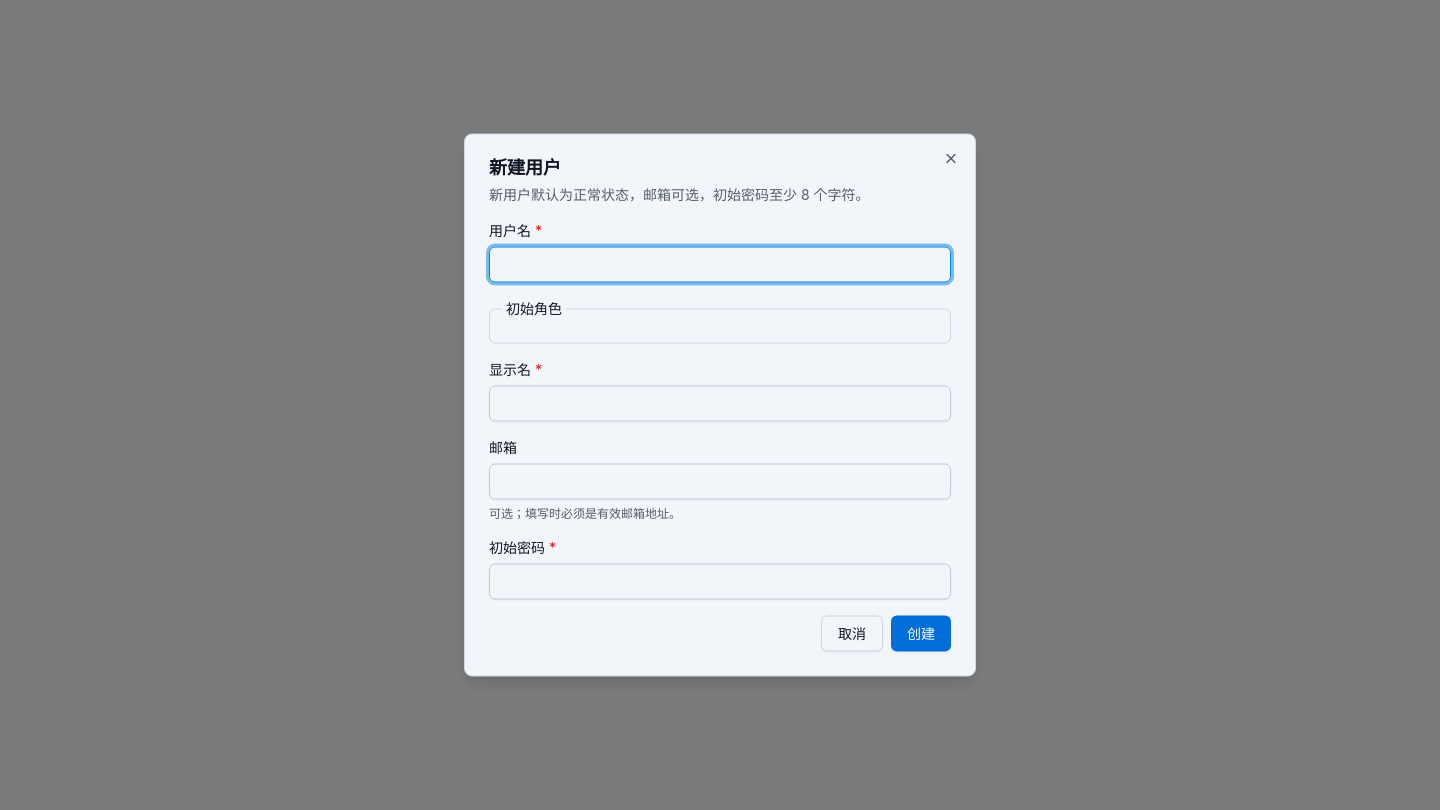
Scenario: PlatformUserCreateDialog › 邮箱有值但格式错误时在前端拦截
Step 1. Type "test-user" into the field labelled "用户名*" → (720, 264), box [489, 246, 951, 282]
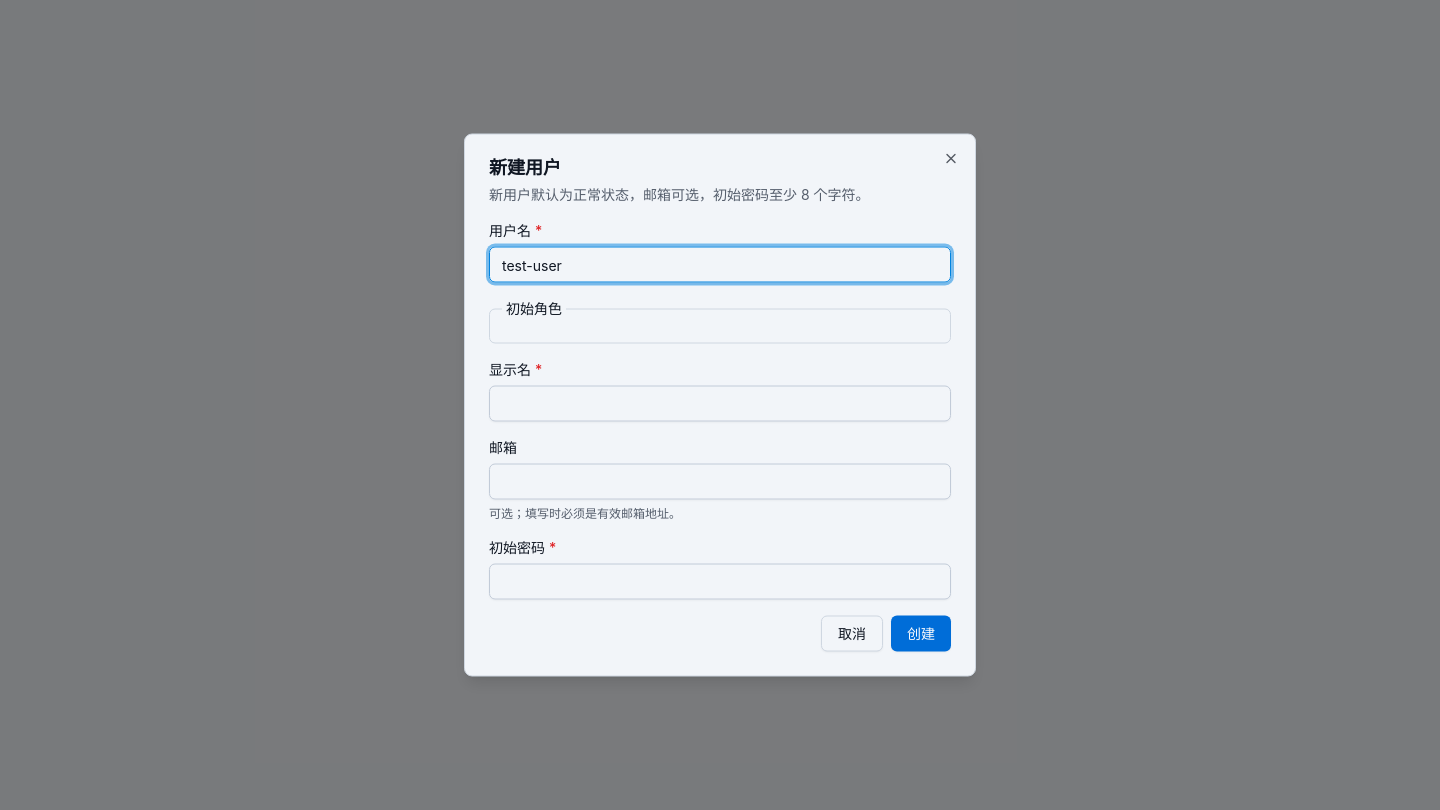
Step 2. Type "测试用户" into the field labelled "显示名*" → (720, 404), box [489, 386, 951, 422]
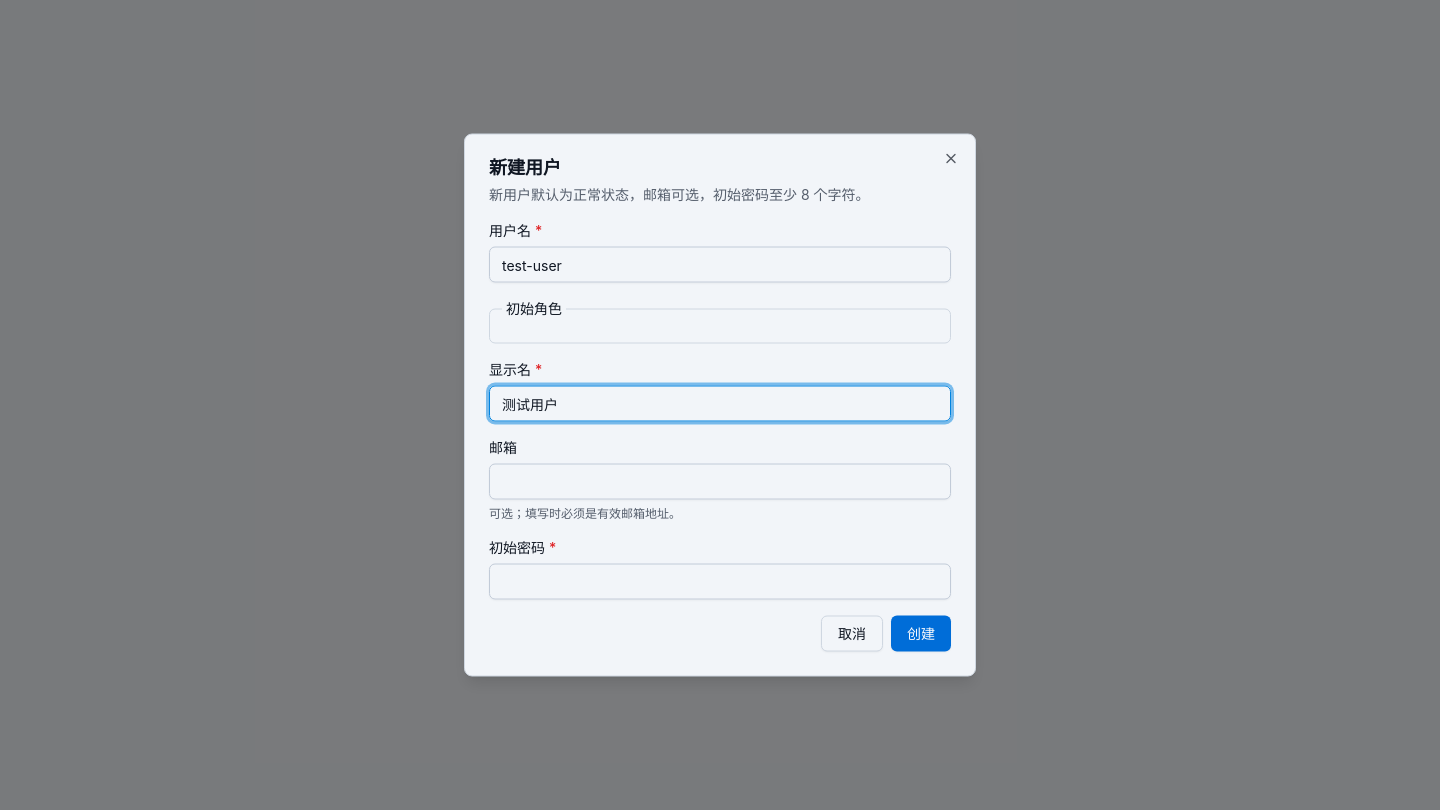
Step 3. Type "invalid-email" into the field labelled "邮箱" → (720, 482), box [489, 464, 951, 500]
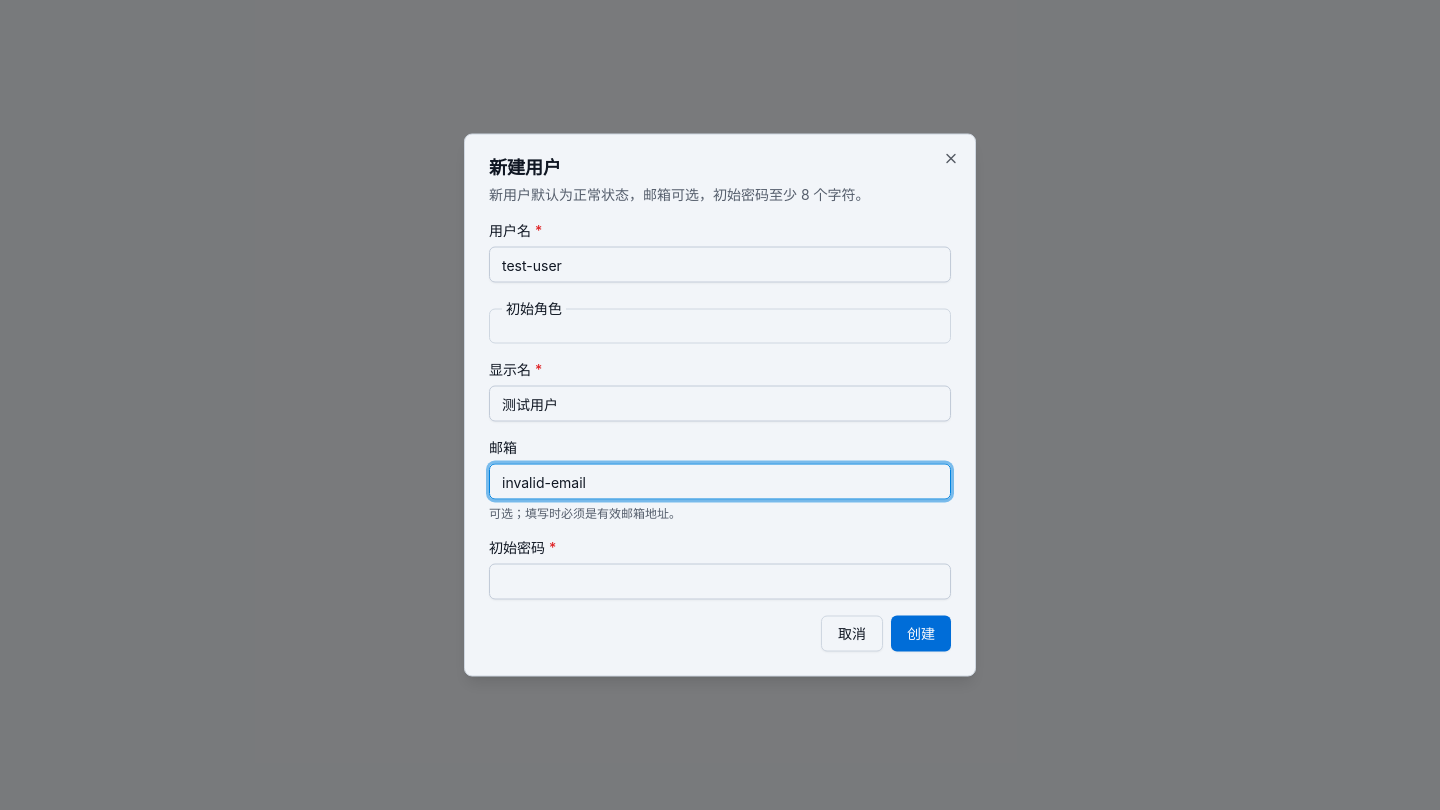
Step 4. Type "changeMe-9!" into the password field labelled "初始密码*" → (720, 582), box [489, 564, 951, 600]
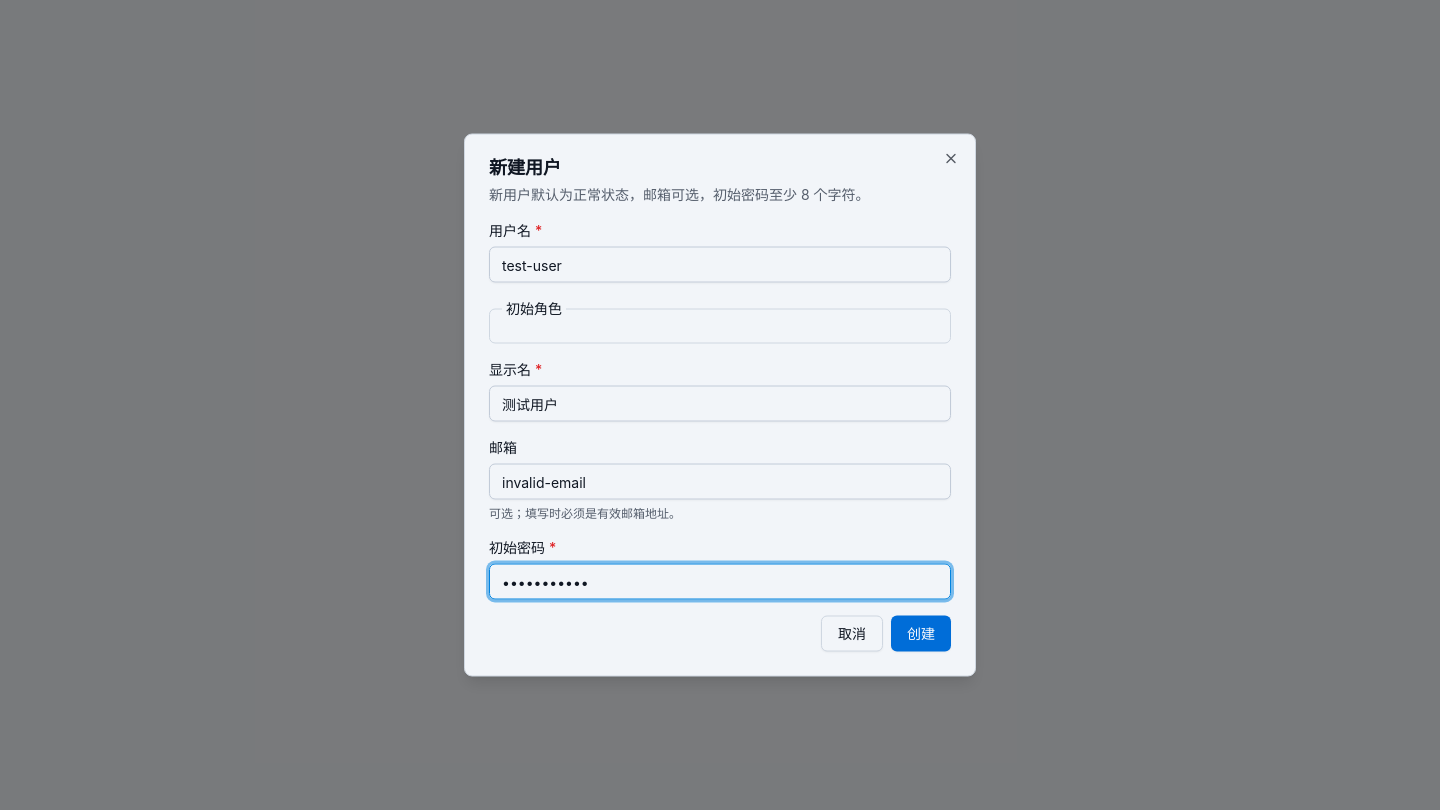
Step 5. Click the button "创建" → (921, 634), box [891, 616, 951, 652]
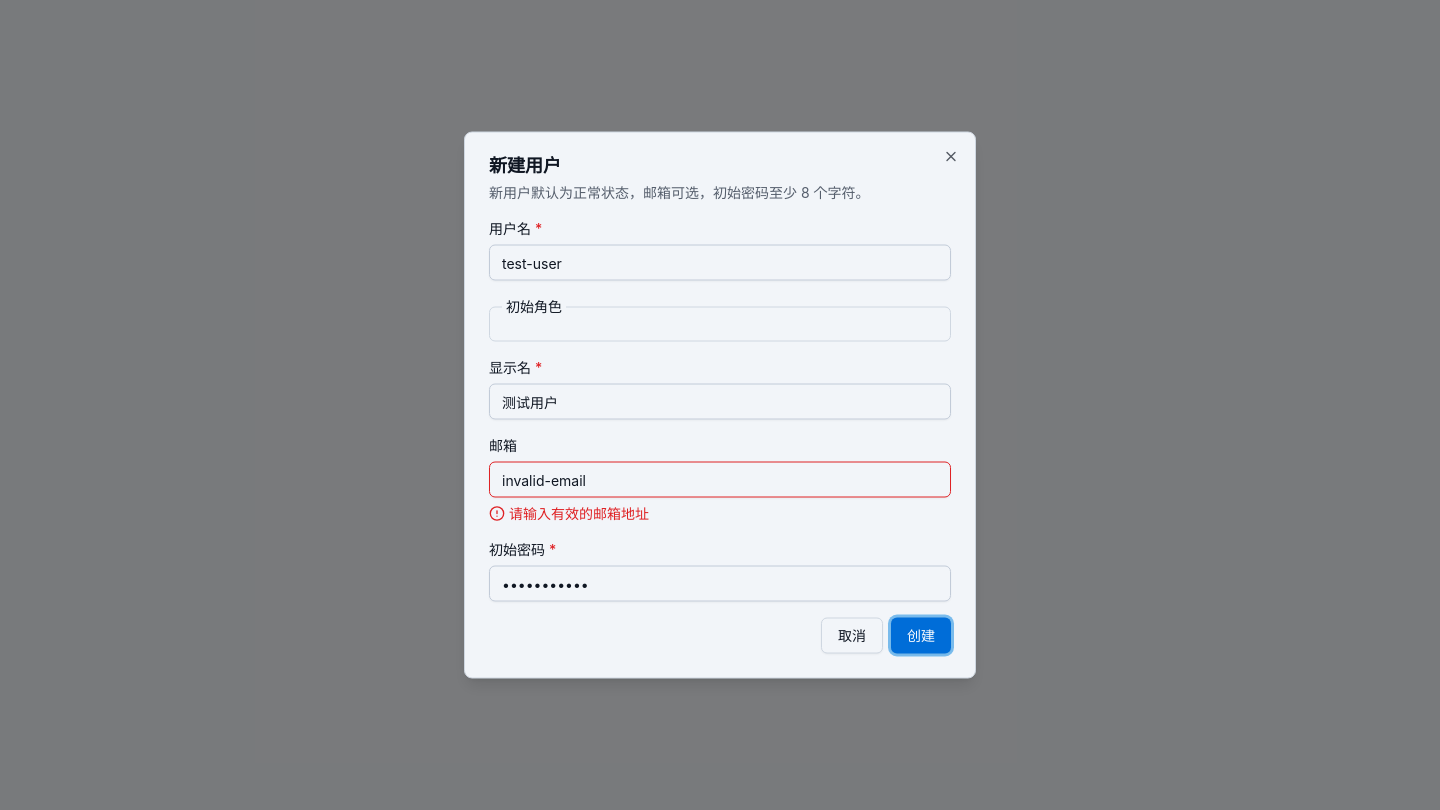
Expected: the text "请输入有效的邮箱地址" is shown, [489, 504, 649, 522]
